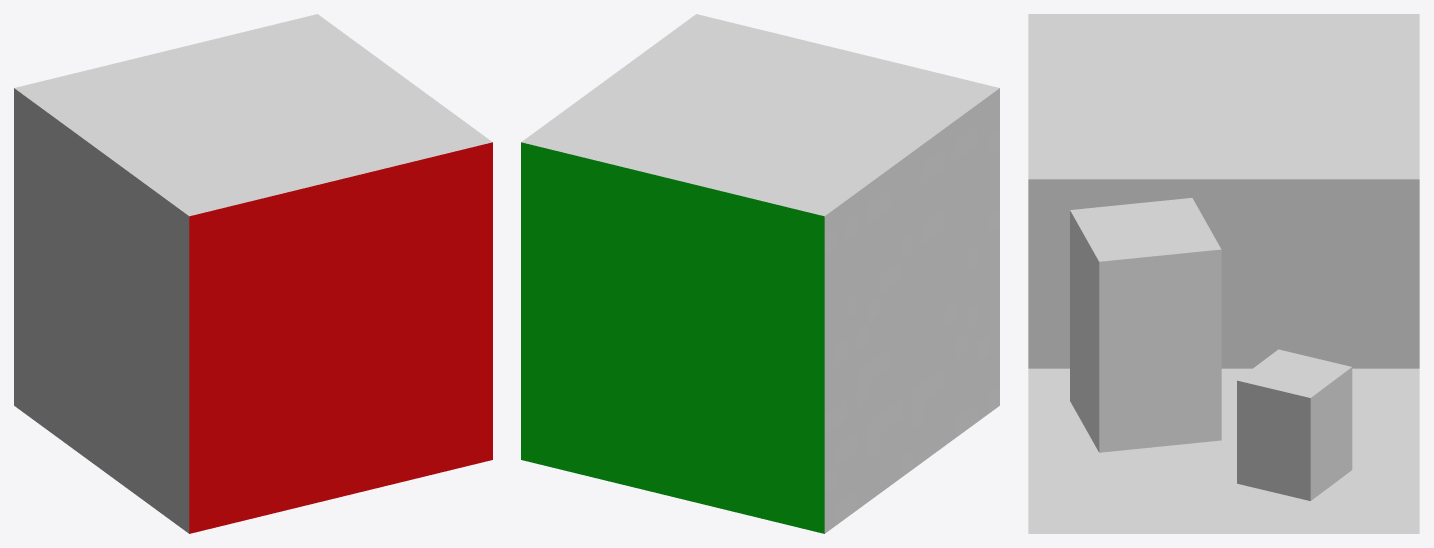
File: gitesthq.gltf
3 views of the same model, side by side, from view 1: azimuth 30°, elevation 25°; view 2: azimuth 150°, elevation 25°; view 3: azimuth 270°, elevation 25° (orthographic). The views are drawn at different scales.
Visible parts, largest first — view 1: Cube; view 2: Cube; view 3: Cube, Cube.001, Cube.002.
Part boxes in pixels (x1,y1,x2,y2): Cube: [14, 14, 492, 533]; Cube: [521, 14, 999, 533]; Cube: [1028, 14, 1419, 533]; Cube.001: [1070, 198, 1221, 452]; Cube.002: [1237, 349, 1352, 500].
Size of the model in its own units: 2 by 2 by 2.
